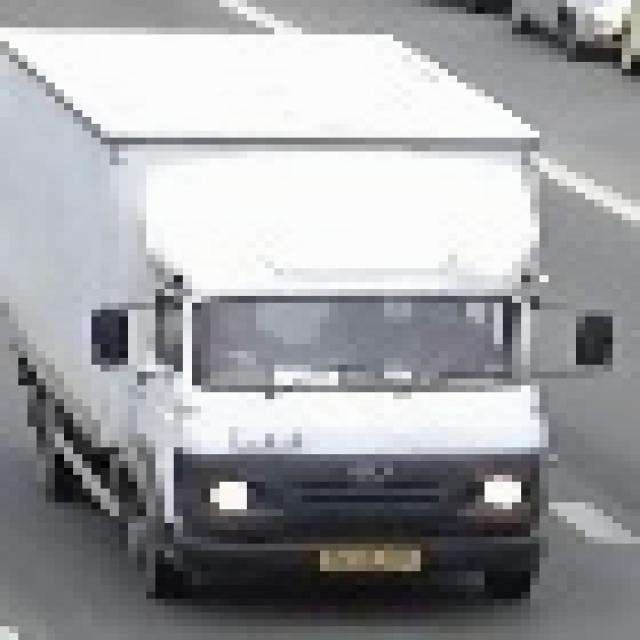truck: (1, 22, 614, 607)
